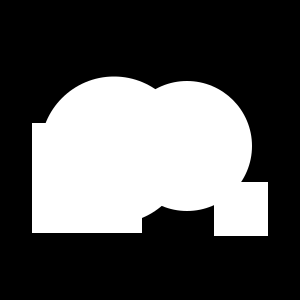circle: (32, 123, 142, 233), (214, 182, 268, 236)
rectangle: (40, 76, 188, 224), (122, 81, 252, 211)
triangle: (153, 158, 171, 176)
